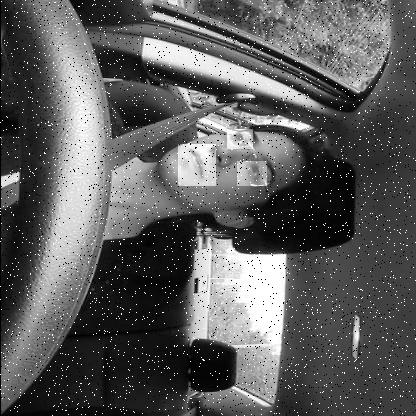seatbelt: (0, 117, 333, 242)
